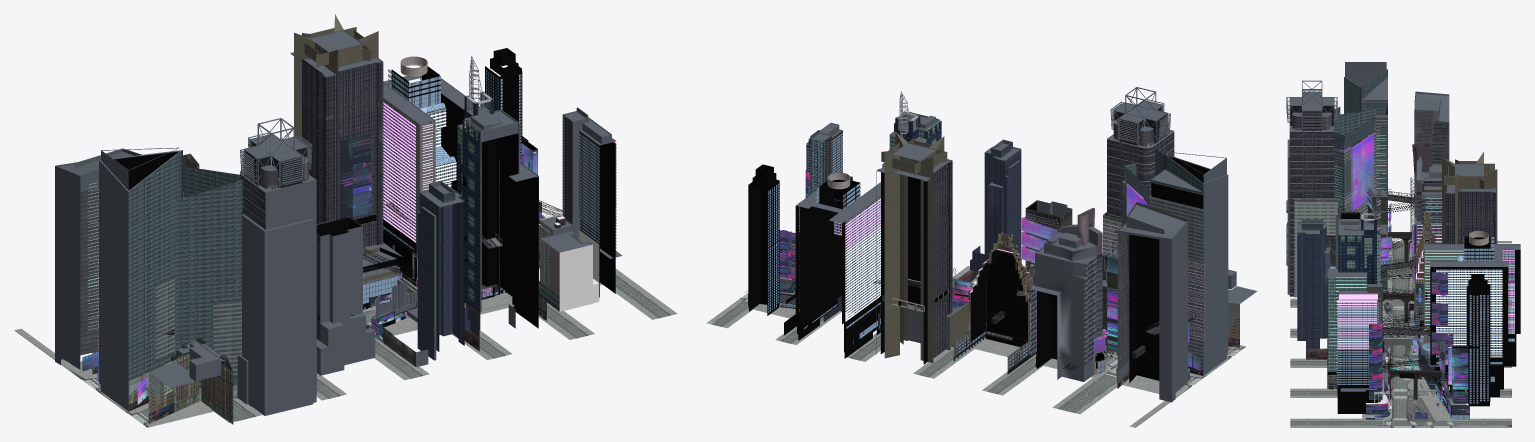
File: city10febupdated1-v1 (1).glb
3 renders of one model, left to right at view 1: azimuth 30°, elevation 25°; view 2: azimuth 150°, elevation 25°; view 3: azimuth 270°, elevation 25°, orthographic. The views are drawn at different scales.
Visible parts, largest first — view 1: Object_180, Object_138, Object_26, Object_180.002, Object_41, Object_180.001, Object_113, Object_104, Object_17, Object_32, Object_38, Object_44 (+8 smaller); view 2: Object_26, Object_180, Object_41, Object_104, Object_32, Object_44, Object_113, Object_17, Object_38, Object_180.001, Object_44.002, Object_186 (+7 smaller); view 3: Object_180, Object_17, Object_32, Object_41, Object_44, Object_26, Object_180.002, Object_38, Object_180.001, Object_44.001, Object_104, Object_11.033 (+35 smaller).
Part boxes in pixels (<box>): Object_180: <box>80,58,538,360</box>; Object_138: <box>237,56,518,415</box>; Object_26: <box>114,66,615,328</box>; Object_180.002: <box>175,166,251,406</box>; Object_41: <box>92,14,491,424</box>; Object_180.001: <box>114,150,182,404</box>; Object_113: <box>99,147,396,411</box>; Object_104: <box>55,30,382,369</box>; Object_17: <box>363,66,616,342</box>; Object_32: <box>14,214,677,427</box>; Object_38: <box>59,118,315,381</box>; Object_44: <box>355,48,536,309</box>; Object_26: <box>749,156,1209,383</box>; Object_180: <box>882,111,1187,370</box>; Object_41: <box>827,101,1239,388</box>; Object_104: <box>876,142,1187,402</box>; Object_32: <box>706,266,1245,427</box>; Object_44: <box>748,164,900,358</box>; Object_113: <box>880,152,1257,375</box>; Object_17: <box>768,133,1107,373</box>; Object_38: <box>1107,87,1236,289</box>; Object_180.001: <box>1149,154,1210,370</box>; Object_44.002: <box>834,222,880,321</box>; Object_186: <box>823,250,1200,380</box>; Object_180: <box>1289,92,1495,371</box>; Object_17: <box>1337,237,1514,419</box>; Object_32: <box>1290,241,1511,427</box>; Object_41: <box>1286,106,1514,343</box>; Object_44: <box>1418,250,1520,404</box>; Object_26: <box>1326,103,1502,413</box>; Object_180.002: <box>1334,107,1376,223</box>; Object_38: <box>1286,77,1448,267</box>; Object_180.001: <box>1344,69,1387,232</box>; Object_44.001: <box>1436,270,1502,357</box>; Object_104: <box>1387,91,1495,287</box>; Object_11.033: <box>1339,133,1373,210</box>.
Size of the model in its own units: 29.8 by 20.82 by 15.74.
Materials: 26 (16 with a texture image).
